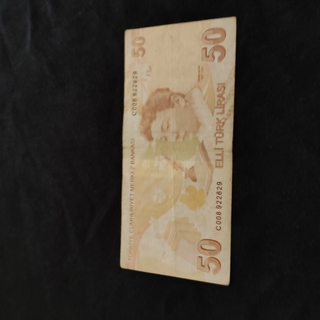50TLBack: (118, 16, 237, 286)
